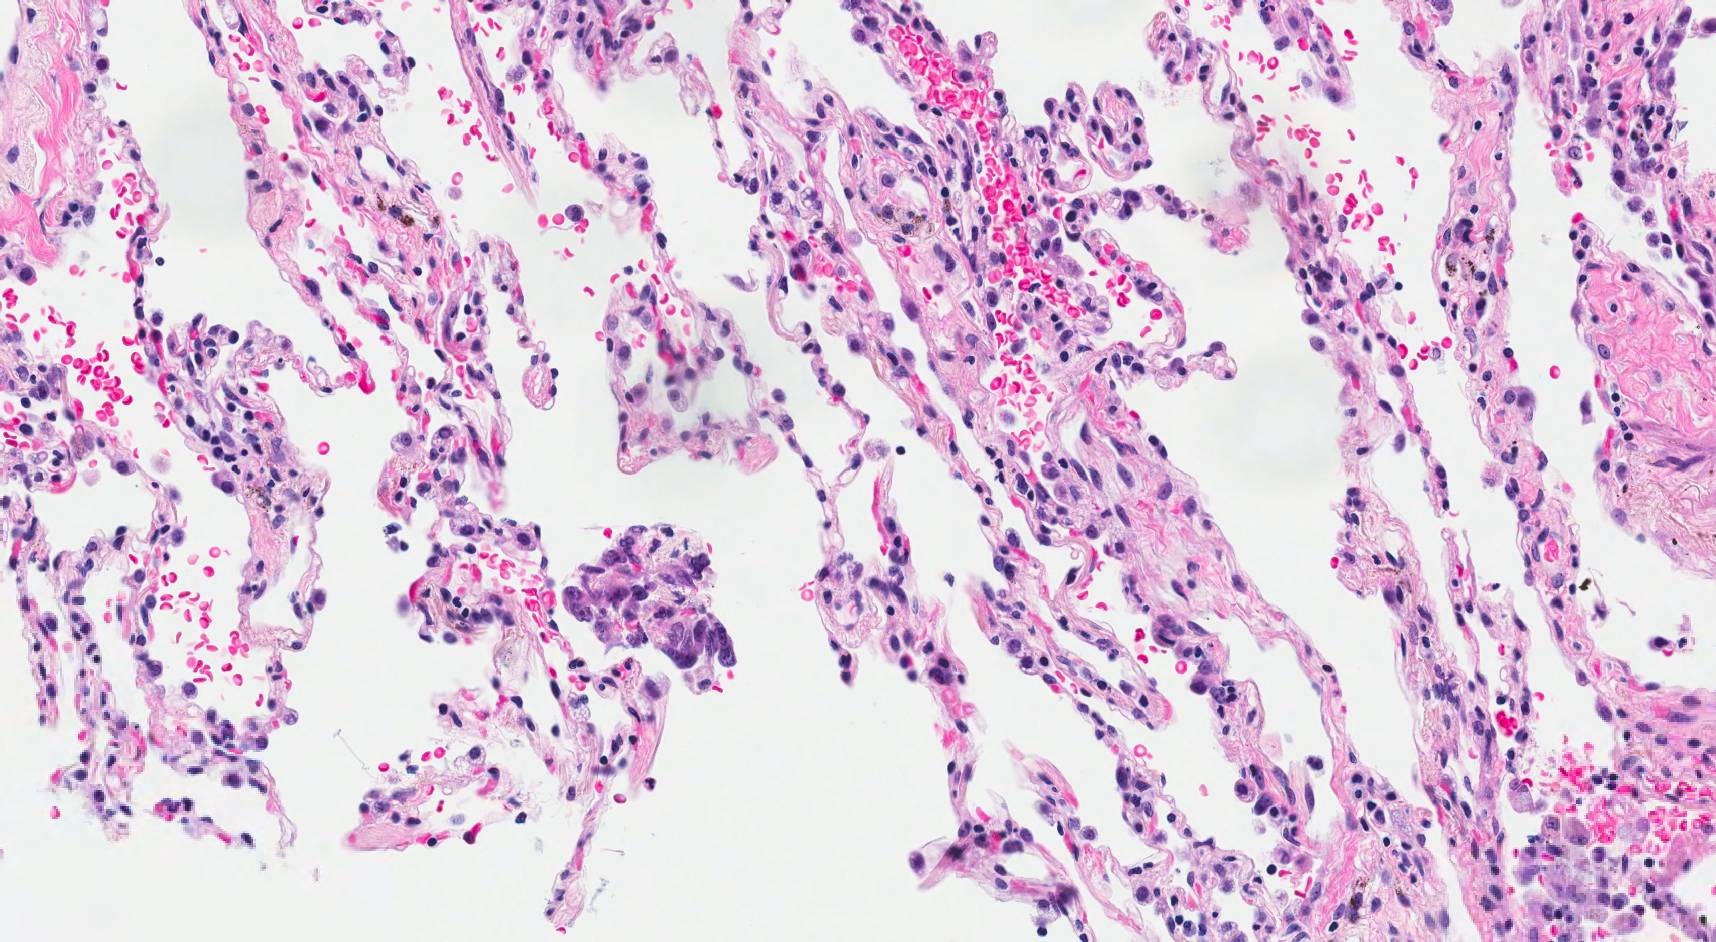stas: (560, 523, 740, 669)
